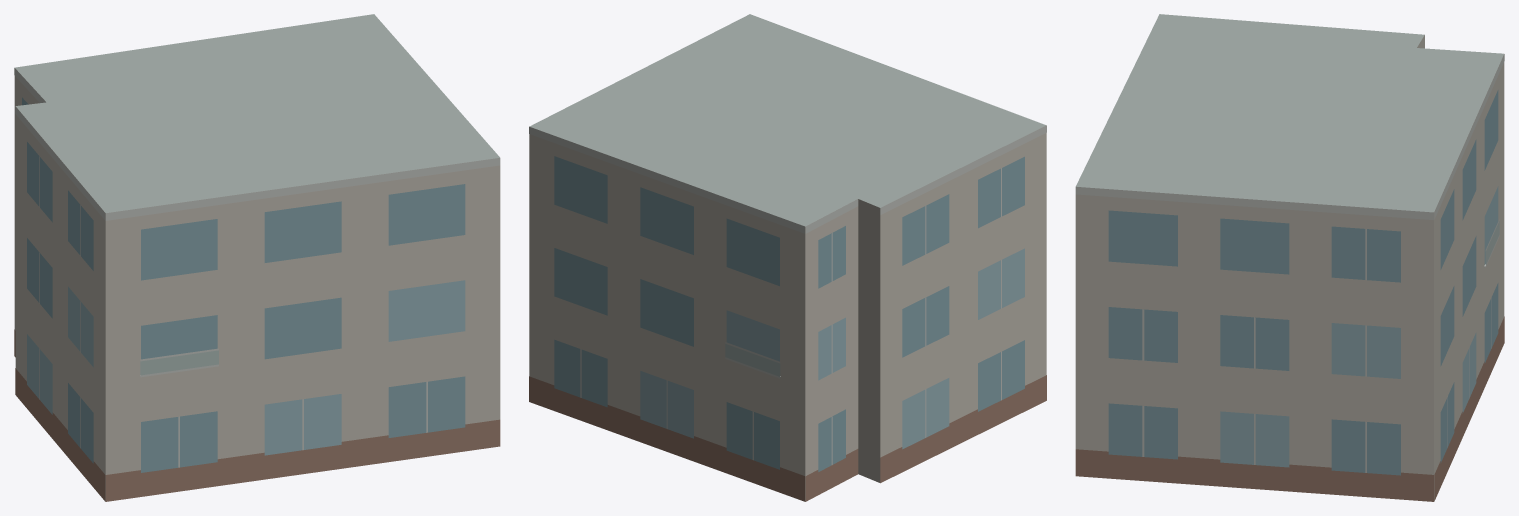
Rendered from survey-upis-32965057.glb.
3 views of the same model, side by side, from view 1: azimuth 30°, elevation 25°; view 2: azimuth 150°, elevation 25°; view 3: azimuth 270°, elevation 25° (orthographic). The views are drawn at different scales.
Parts seen in each view (by area): view 1: survey-upis-32965057.tmp; view 2: survey-upis-32965057.tmp; view 3: survey-upis-32965057.tmp.
Part boxes in pixels (<box>): survey-upis-32965057.tmp: <box>14,14,500,501</box>; survey-upis-32965057.tmp: <box>529,14,1046,501</box>; survey-upis-32965057.tmp: <box>1075,14,1504,501</box>.
Size of the model in its own units: 13.47 by 9.15 by 12.3.
